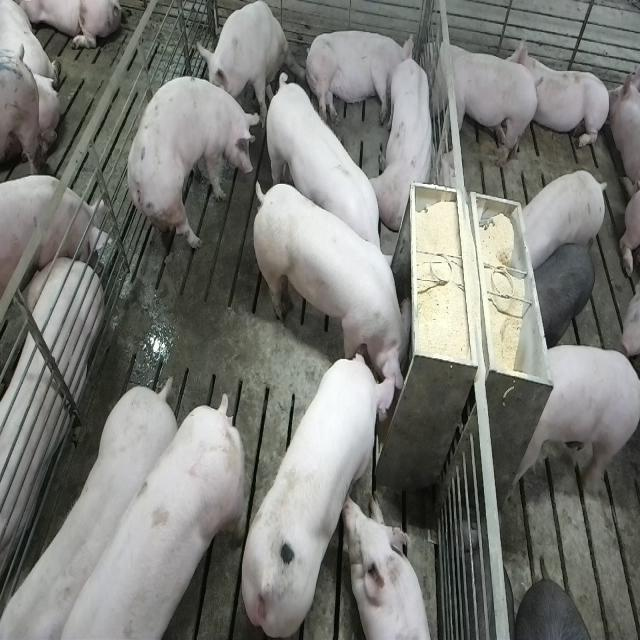Feeding: (236, 348, 401, 638), (256, 176, 419, 403)
Lateral_lying: (0, 253, 101, 604), (304, 28, 414, 128)
Sitting: (197, 2, 294, 130)
Standing: (0, 378, 174, 640), (87, 384, 244, 637), (262, 70, 394, 290), (122, 76, 255, 262), (510, 342, 640, 502), (423, 30, 540, 170), (0, 175, 108, 308), (514, 168, 608, 272), (531, 238, 597, 343)
Sternal_lying: (346, 495, 434, 640), (511, 34, 612, 154), (374, 48, 437, 232)
